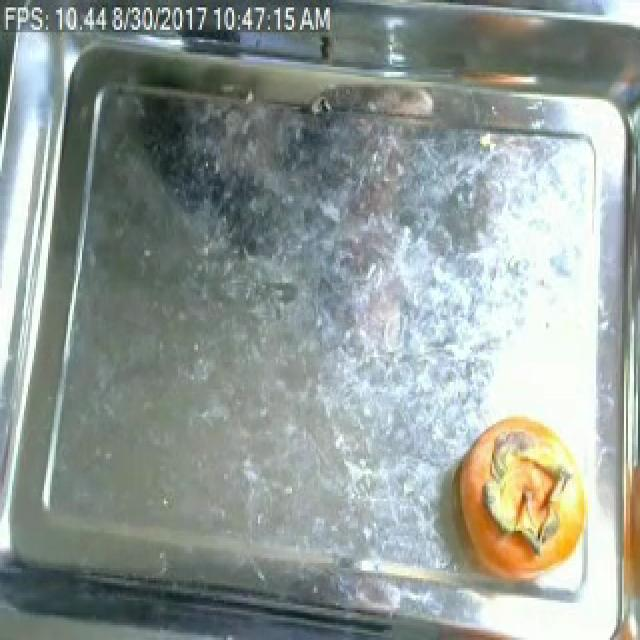Fruit: (474, 410, 588, 570)
